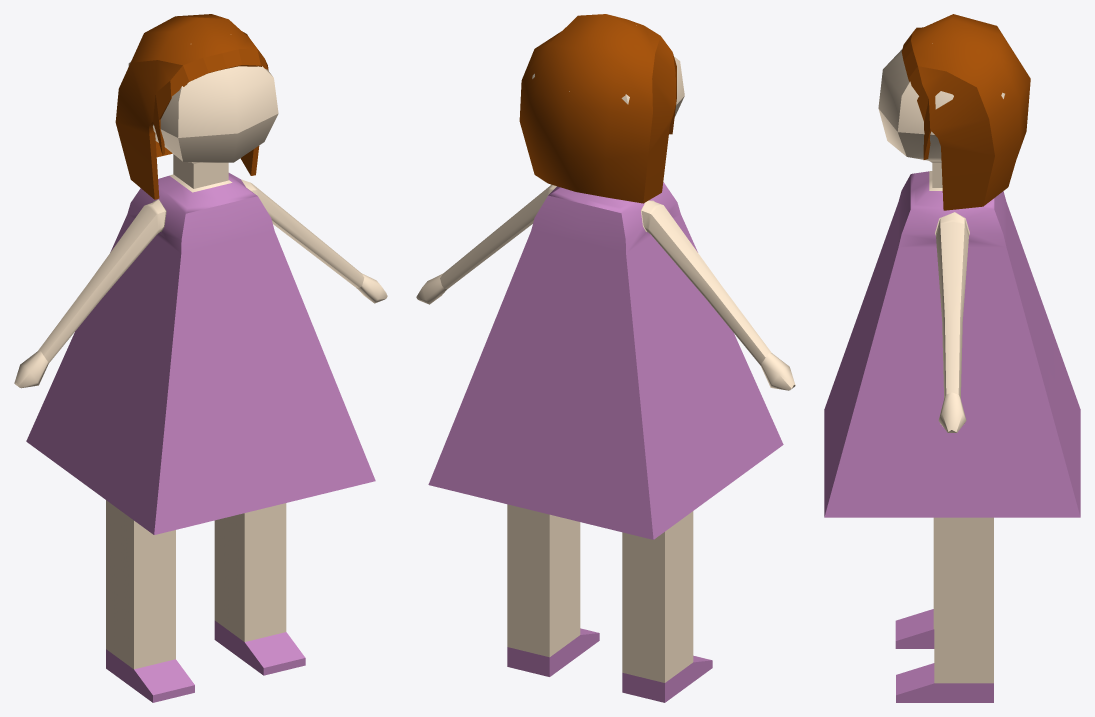
File: monitauwu.glb
3 renders of one model, left to right at view 1: azimuth 30°, elevation 25°; view 2: azimuth 150°, elevation 25°; view 3: azimuth 270°, elevation 25°, orthographic.
Parts seen in each view (by area): view 1: pCube2; view 2: pCube2; view 3: pCube2.
Part boxes in pixels (box(x1,y1,x2,y2)): pCube2: box(14, 14, 387, 702); pCube2: box(416, 14, 795, 702); pCube2: box(824, 14, 1080, 702).
Size of the model in its own units: 1.67 by 2.78 by 0.9999.
